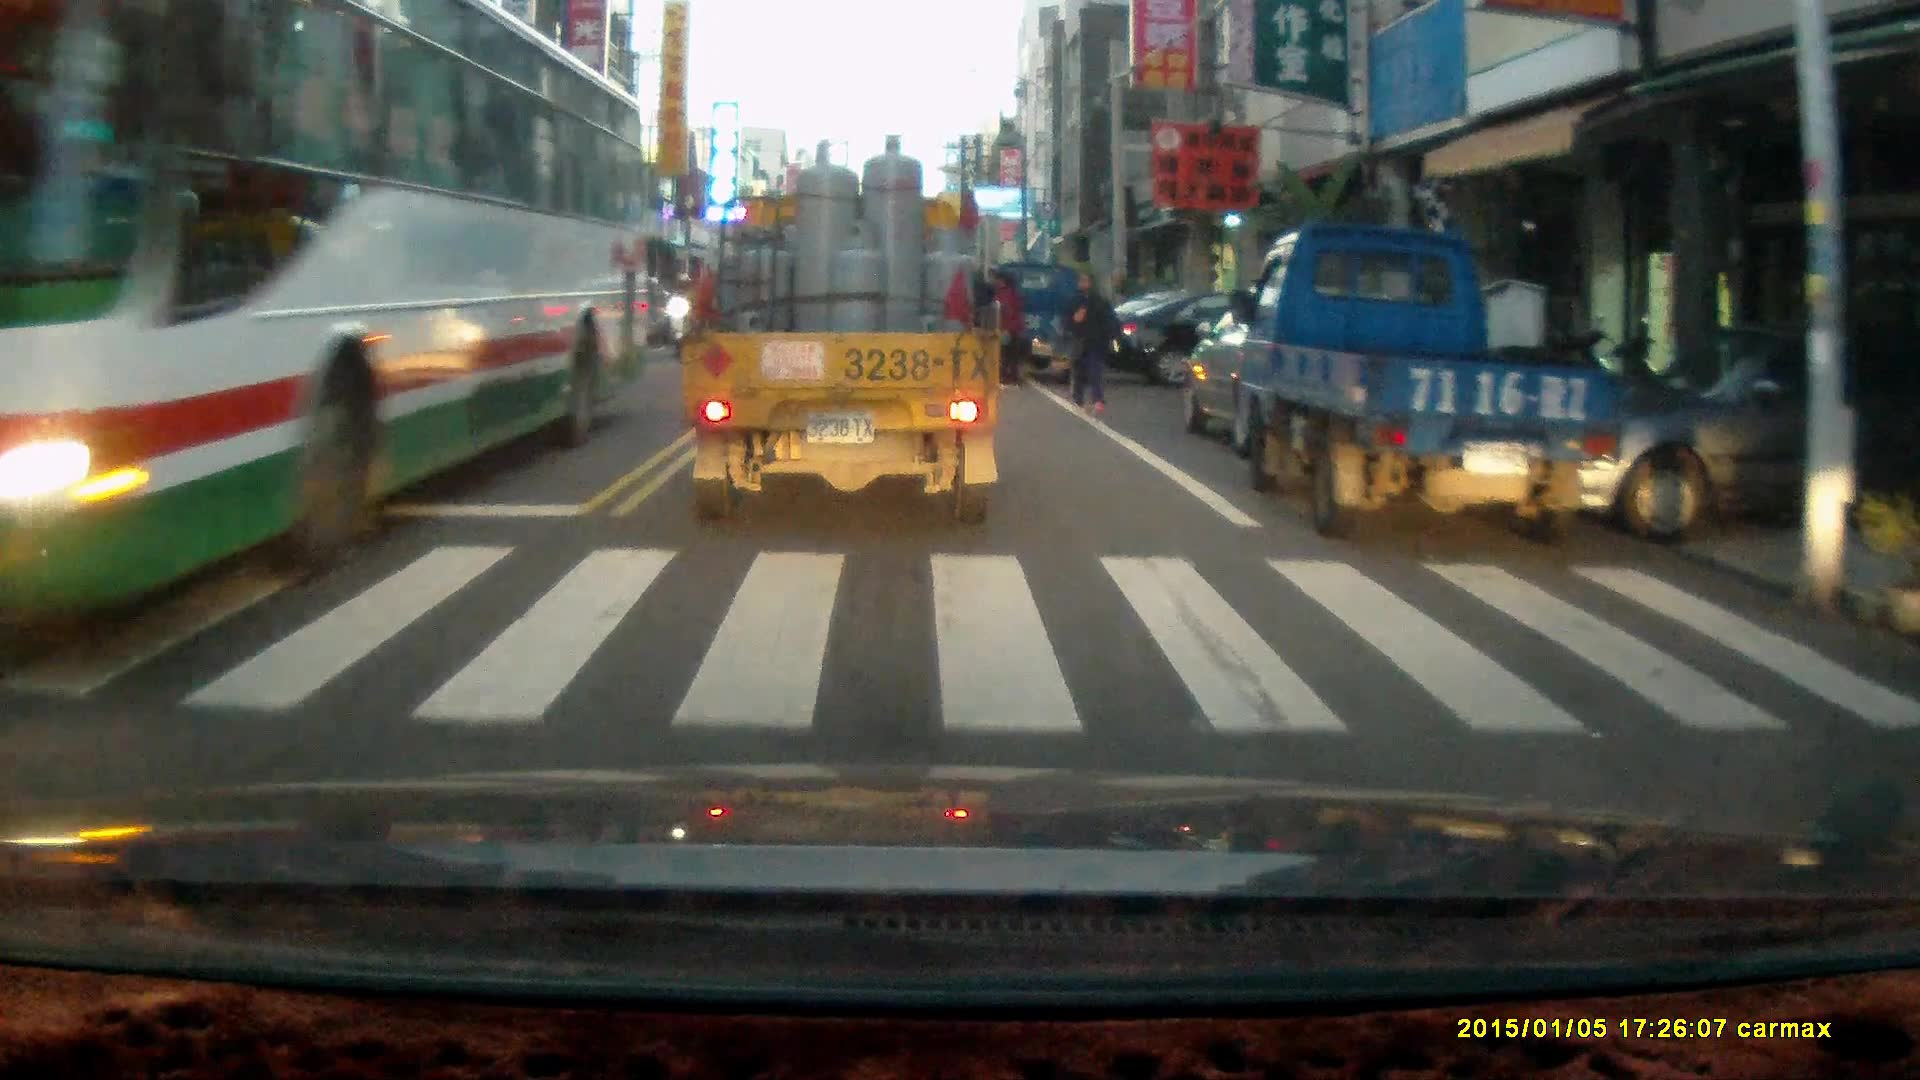pedestrian: (1063, 268, 1123, 414), (990, 266, 1025, 388)
rider: (663, 270, 700, 360)
vehicle: (1, 16, 646, 616), (679, 131, 1009, 529), (1224, 218, 1625, 542), (1176, 284, 1450, 465), (1111, 273, 1346, 388), (985, 260, 1105, 386)
